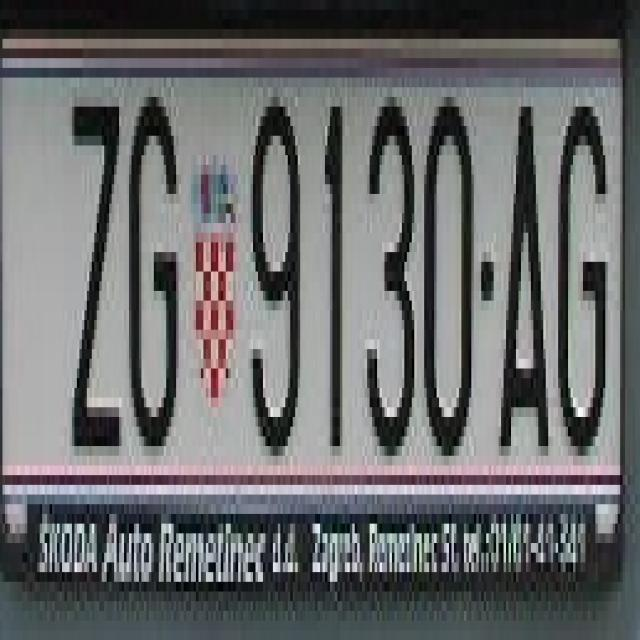0: (422, 88, 474, 466)
1: (315, 78, 350, 456)
3: (367, 87, 414, 446)
9: (245, 107, 308, 456)
A: (494, 107, 550, 456)
G: (124, 87, 181, 446), (558, 87, 610, 446)
Z: (69, 88, 124, 436)
